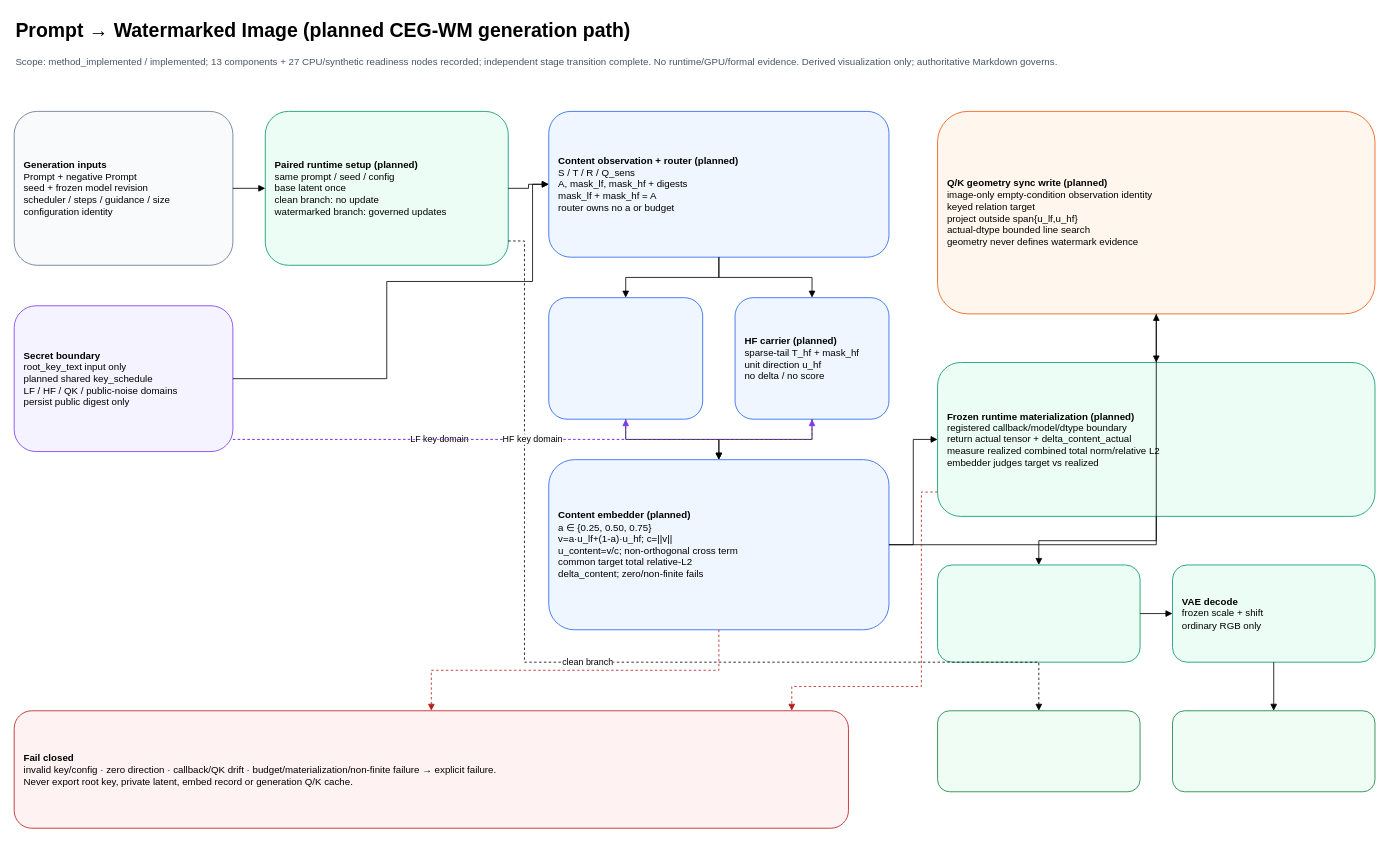
Image size: 1389x842. Some labels were removed from this diagram. The shapes that lost their labels are listed below. From the top down, each one's box as (x1, y1, x2, y2) in pixels, then its label:
(548, 297, 703, 419): LF carrier (planned) T_lf + mask_lf unit direction u_lf no delta / no score
(937, 564, 1140, 662): Scheduler suffix replay same scheduler identity remaining interval(s)
(937, 710, 1140, 792): Clean RGB paired control
(1172, 710, 1375, 792): Watermarked RGB ordinary image; planned output
